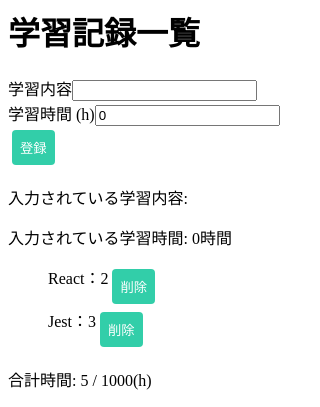
Scenario: StudyRecordList › 学習記録が削除できること
expect the heading "学習記録一覧" is shown: met, box [8,16,200,52]
expect the number of list items is 2: met, box [48,269,155,304]; [48,312,143,347]
Click the button "削除" in the row of "React".
click(134, 286)  # box [112,269,155,304]
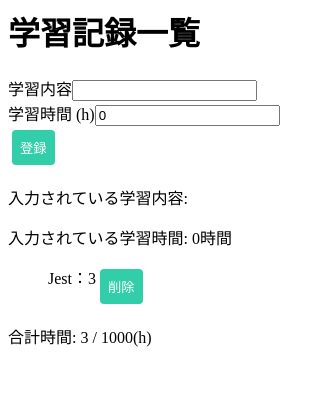
expect the number of list items is 1: met, box [48,269,143,304]
